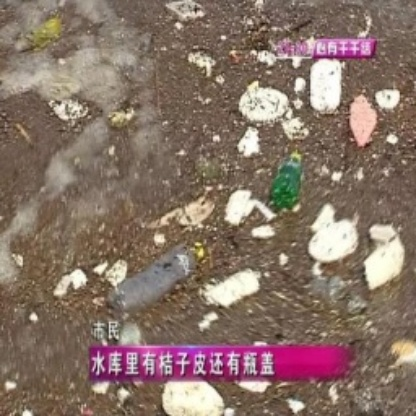bottle: (112, 239, 207, 314), (272, 147, 304, 209)
